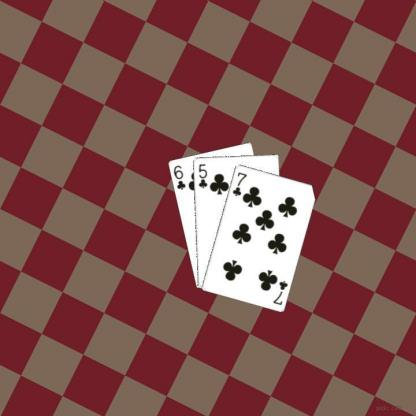5C: (196, 161, 208, 189)
6C: (171, 162, 187, 191)
7C: (270, 278, 289, 306), (230, 169, 248, 197)
